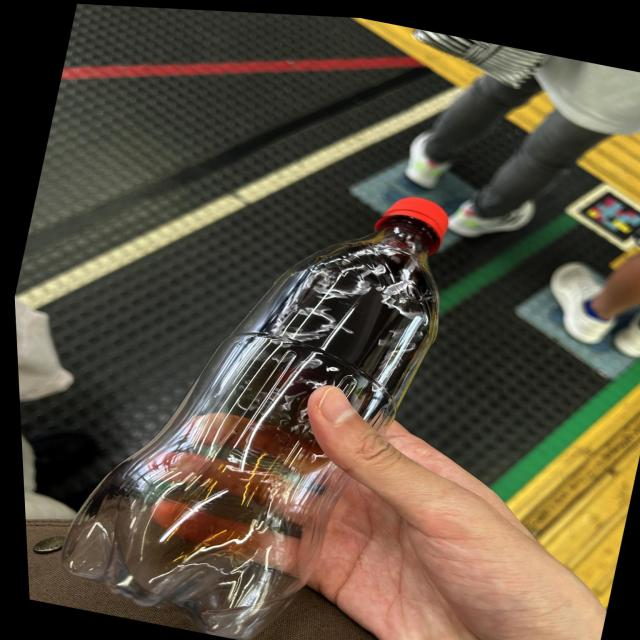low: (61, 198, 448, 640)
